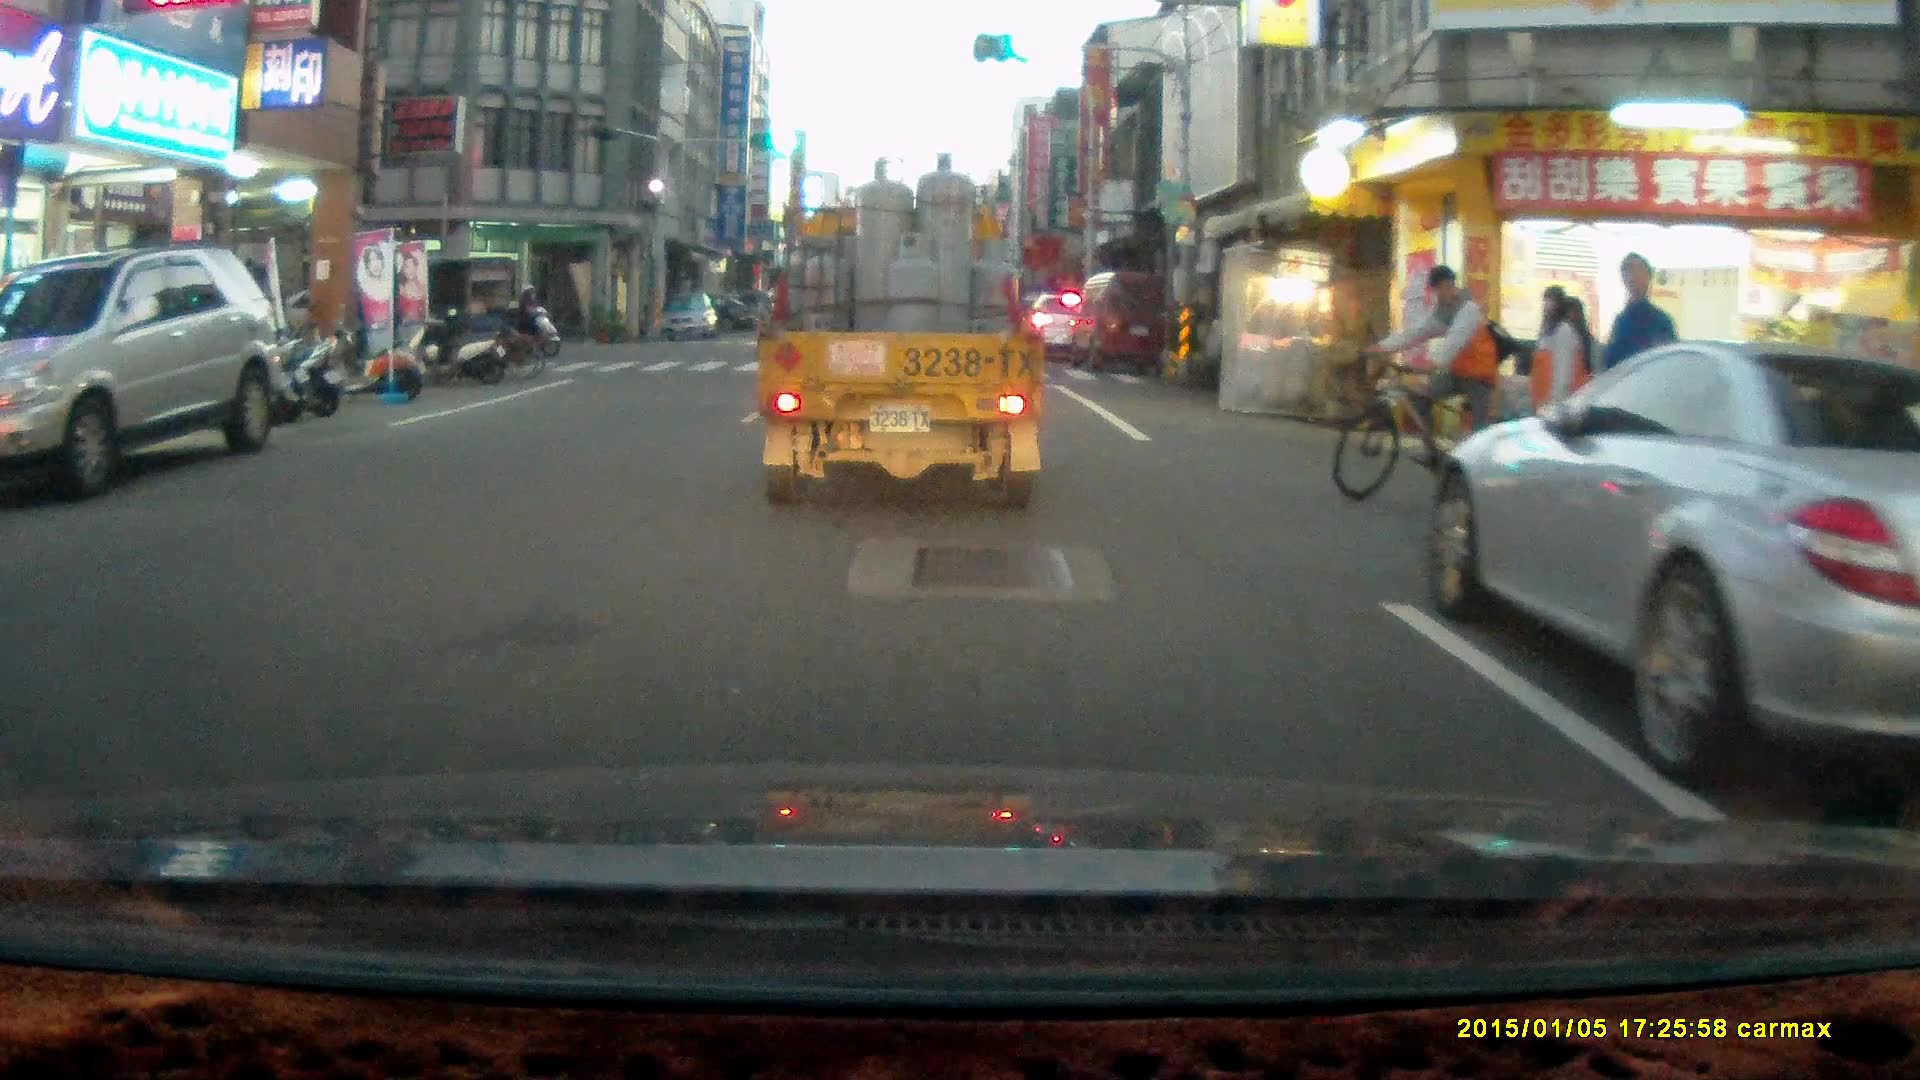pedestrian: (1597, 251, 1680, 531), (1530, 283, 1585, 492)
rider: (1332, 263, 1538, 507), (489, 282, 554, 365)
vehicle: (1428, 340, 1920, 795), (753, 161, 1039, 516), (1, 250, 283, 497), (333, 257, 512, 365), (1076, 267, 1176, 376), (1025, 295, 1092, 360), (655, 291, 720, 347)
